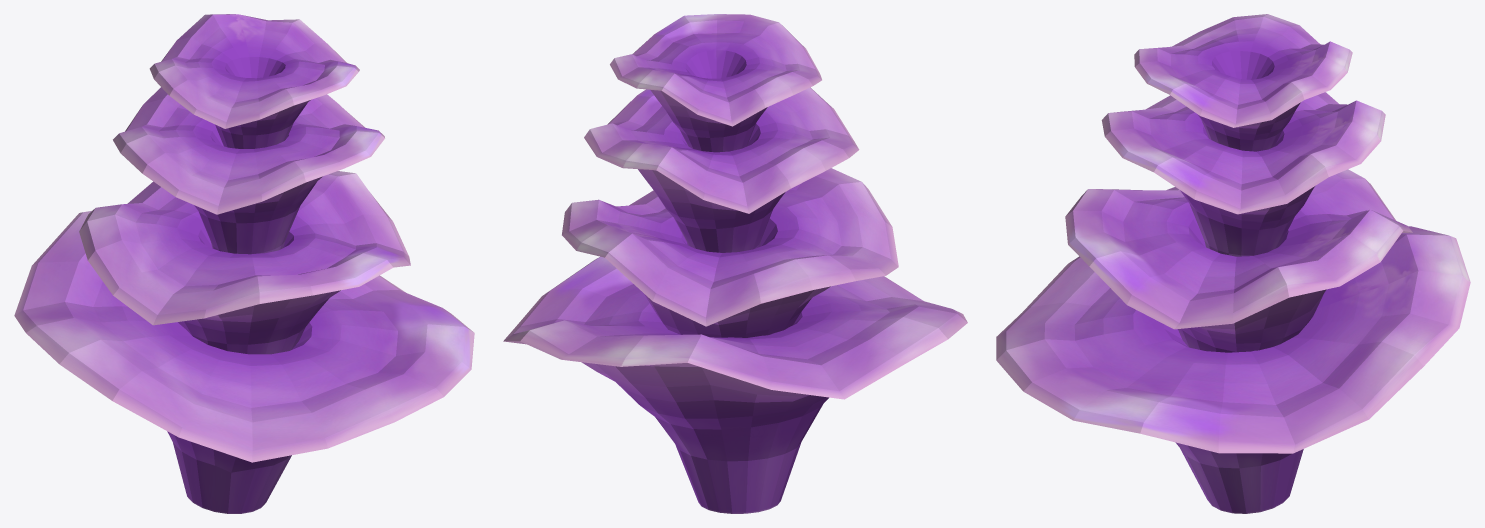
The model's file is plant_40.fbx.
3 renders of one model, left to right at view 1: azimuth 30°, elevation 25°; view 2: azimuth 150°, elevation 25°; view 3: azimuth 270°, elevation 25°, orthographic. The views are drawn at different scales.
Visible parts, largest first — view 1: Mesh; view 2: Mesh; view 3: Mesh.
Part boxes in pixels (<box>): Mesh: <box>14,14,474,513</box>; Mesh: <box>503,14,967,513</box>; Mesh: <box>996,14,1470,513</box>.
Bounding box in the file's own units: 10.69 × 11.56 × 10.6.
